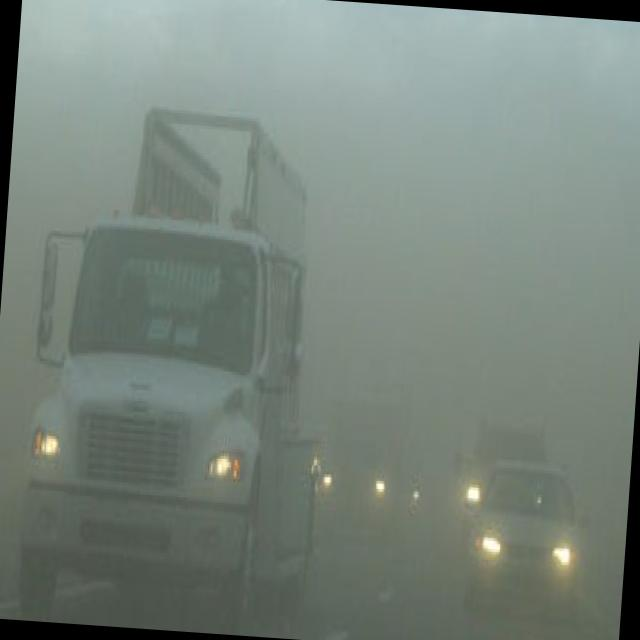car: (459, 457, 585, 610), (454, 404, 547, 547)
